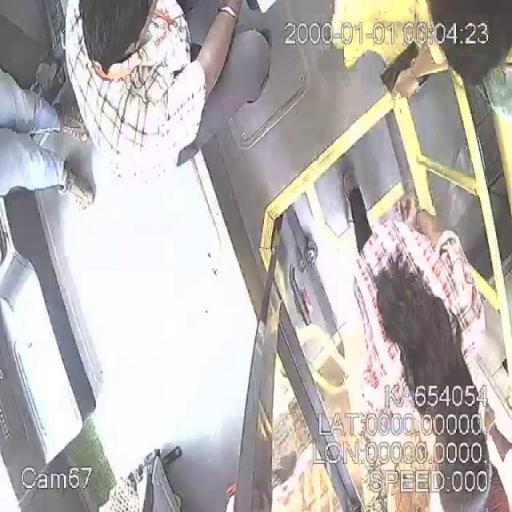persona: (339, 170, 510, 511), (58, 0, 245, 182), (1, 66, 97, 210)
